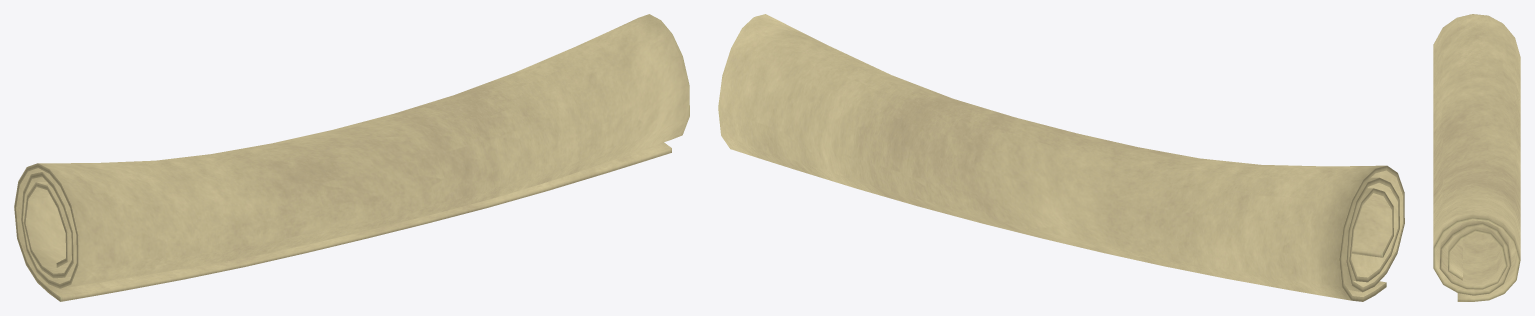
The model's file is Letter.glb.
3 renders of one model, left to right at view 1: azimuth 30°, elevation 25°; view 2: azimuth 150°, elevation 25°; view 3: azimuth 270°, elevation 25°, orthographic. The views are drawn at different scales.
Visible parts, largest first — view 1: Letter_V02; view 2: Letter_V02; view 3: Letter_V02.
Boxes of the visible parts, x1,y1,x2,y2 form: Letter_V02: [14, 14, 689, 301]; Letter_V02: [718, 14, 1404, 301]; Letter_V02: [1433, 14, 1520, 301].
Bounding box in the file's own units: 2.41 × 0.5123 × 0.4377.
1 material, 1 textured.
